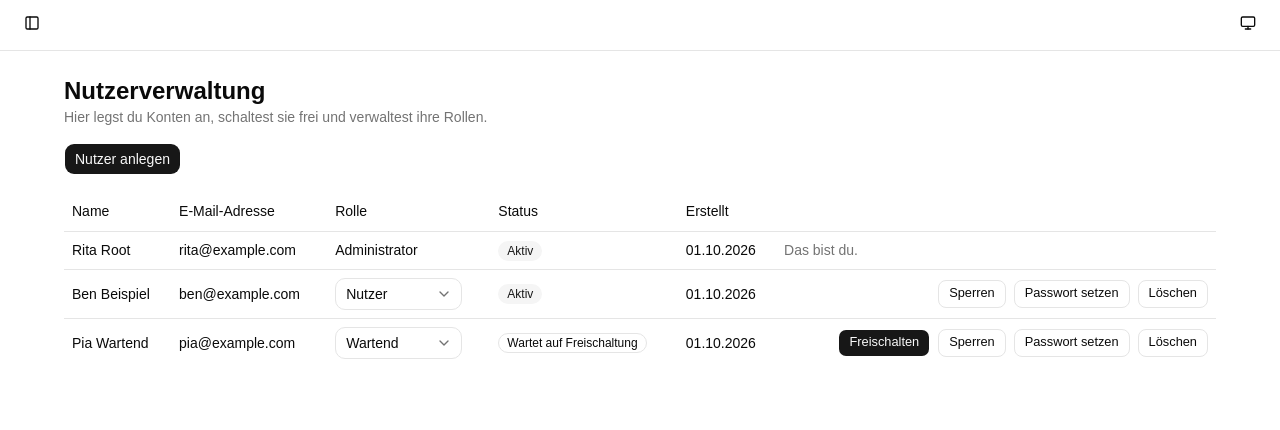
Test: AdminUsersPage: change an account › turns the 409 of the server into a clear sentence and keeps the list
Expected: the heading "Nutzerverwaltung" is shown, [64, 77, 265, 104]
Click the button with aria-label "Ben Beispiel sperren". click: (972, 294)
box: [938, 280, 1006, 308]
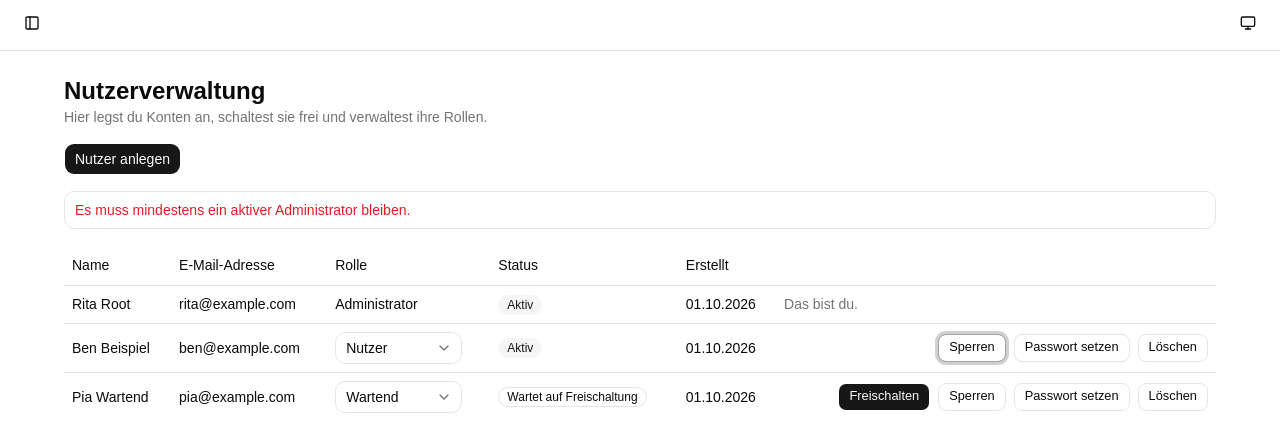
Expected: the row "Ben Beispiel" is shown, [64, 323, 1216, 372]
Expected: the message reads "Es muss mindestens ein aktiver Administrator bleiben.", [75, 202, 410, 218]
